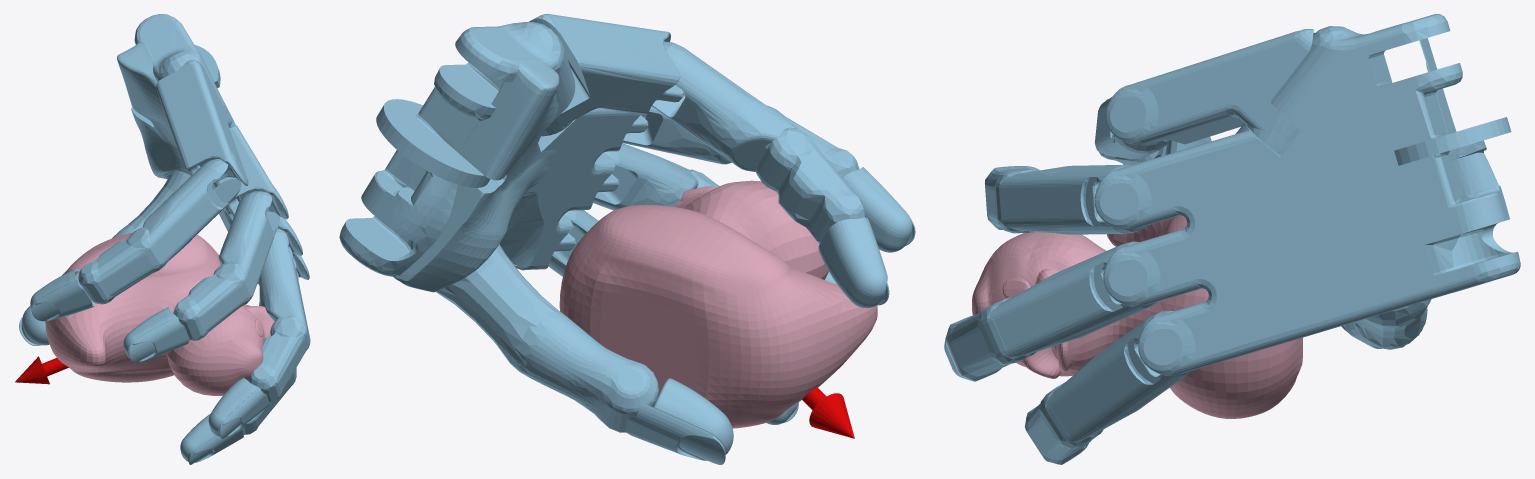
The picture shows the model from 3 angles, left to right: view 1: azimuth 30°, elevation 25°; view 2: azimuth 150°, elevation 25°; view 3: azimuth 270°, elevation 25°; orthographic projection. The views are drawn at different scales.
Parts seen in each view (by area): view 1: world, rubber_duck.stl; view 2: world, rubber_duck.stl; view 3: world, rubber_duck.stl.
Part boxes in pixels (x1,y1,x2,y2): world: [15, 14, 310, 464]; rubber_duck.stl: [45, 232, 274, 395]; world: [339, 14, 915, 464]; rubber_duck.stl: [559, 180, 877, 428]; world: [944, 14, 1520, 464]; rubber_duck.stl: [972, 216, 1302, 418].
Size of the model in its own units: 0.1405 by 0.161 by 0.1669.
